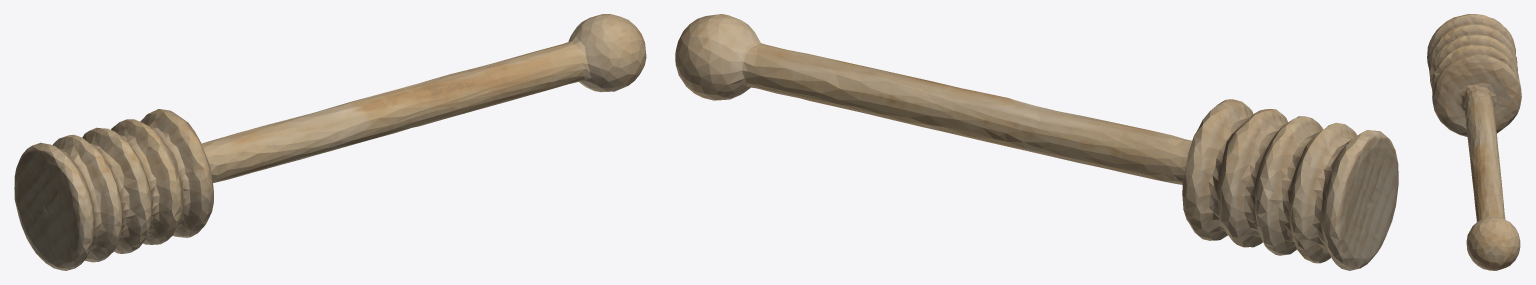
3 renders of one model, left to right at view 1: azimuth 30°, elevation 25°; view 2: azimuth 150°, elevation 25°; view 3: azimuth 270°, elevation 25°, orthographic. The views are drawn at different scales.
Bounding box in the file's own units: 0.1107 × 0.0205 × 0.0216.
Materials: 1 (1 with a texture image).
